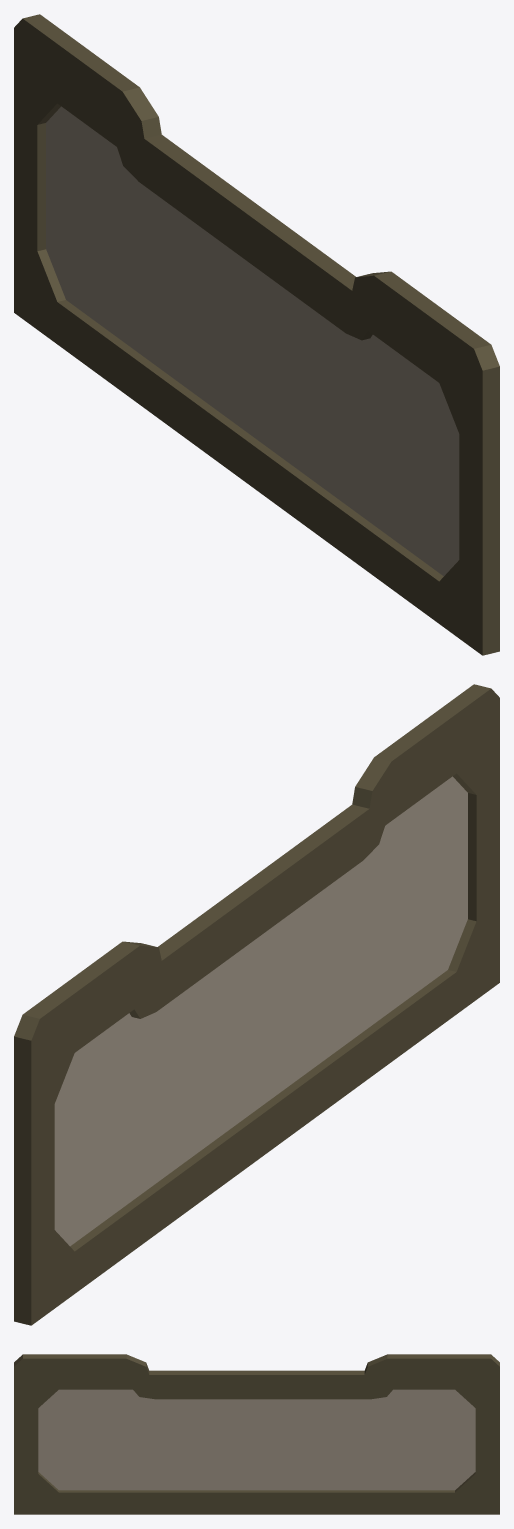
Rendered from SMOD_SkyroadBarrier_02.fbx.
3 renders of one model, top to bottom at view 1: azimuth 30°, elevation 25°; view 2: azimuth 150°, elevation 25°; view 3: azimuth 270°, elevation 25°, orthographic. The views are drawn at different scales.
Visible parts, largest first — view 1: SMOD_SkyroadBarrier; view 2: SMOD_SkyroadBarrier; view 3: SMOD_SkyroadBarrier.
Part boxes in pixels (x1,y1,x2,y2): SMOD_SkyroadBarrier: (14,14,499,655); SMOD_SkyroadBarrier: (14,684,499,1325); SMOD_SkyroadBarrier: (14,1354,499,1514).
Bounding box in the file's own units: 21.42 × 354 × 1000.
